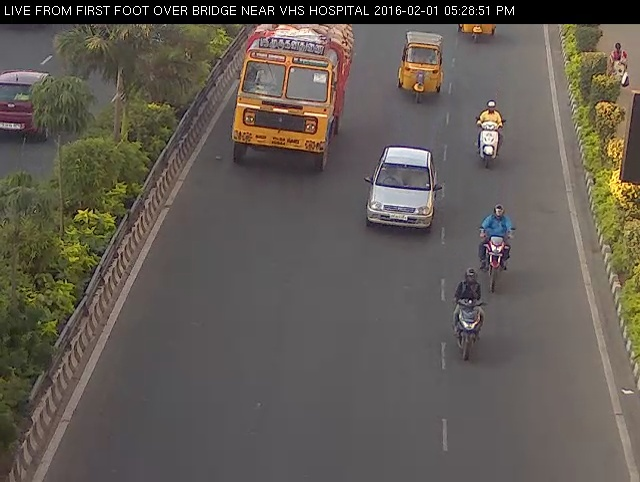Auto: (393, 25, 449, 113), (447, 14, 507, 47)
Bus: (218, 17, 358, 184)
Car: (358, 137, 450, 243)
Person: (472, 203, 527, 300), (447, 268, 490, 367), (472, 95, 507, 174)
